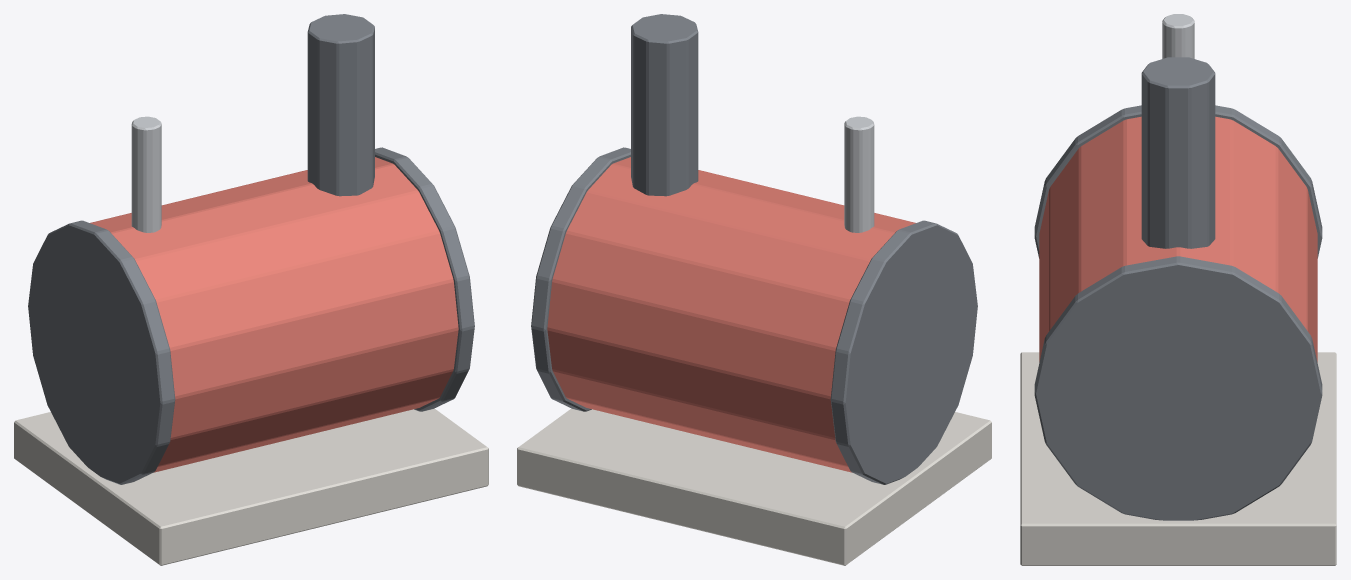
3 renders of one model, left to right at view 1: azimuth 30°, elevation 25°; view 2: azimuth 150°, elevation 25°; view 3: azimuth 270°, elevation 25°, orthographic. The views are drawn at different scales.
Parts seen in each view (by area): view 1: 炉体, 基座.005, 端盖, 烟囱, 管道.002; view 2: 炉体, 基座.005, 端盖, 烟囱, 管道.002; view 3: 端盖, 炉体, 基座.005, 烟囱, 管道.002.
Part boxes in pixels (x1=…): 炉体: x1=90, y1=157, x2=458, y2=472; 基座.005: x1=14, y1=408, x2=488, y2=565; 端盖: x1=28, y1=147, x2=474, y2=484; 烟囱: x1=307, y1=14, x2=374, y2=196; 管道.002: x1=131, y1=116, x2=161, y2=232; 炉体: x1=547, y1=157, x2=915, y2=472; 基座.005: x1=517, y1=408, x2=991, y2=565; 端盖: x1=531, y1=147, x2=977, y2=484; 烟囱: x1=631, y1=14, x2=698, y2=196; 管道.002: x1=844, y1=116, x2=874, y2=232; 端盖: x1=1034, y1=105, x2=1322, y2=520; 炉体: x1=1039, y1=116, x2=1317, y2=362; 基座.005: x1=1020, y1=352, x2=1336, y2=565; 烟囱: x1=1141, y1=57, x2=1215, y2=248; 管道.002: x1=1162, y1=14, x2=1194, y2=58.
Bounding box in the file's own units: 440 × 540 × 340.
